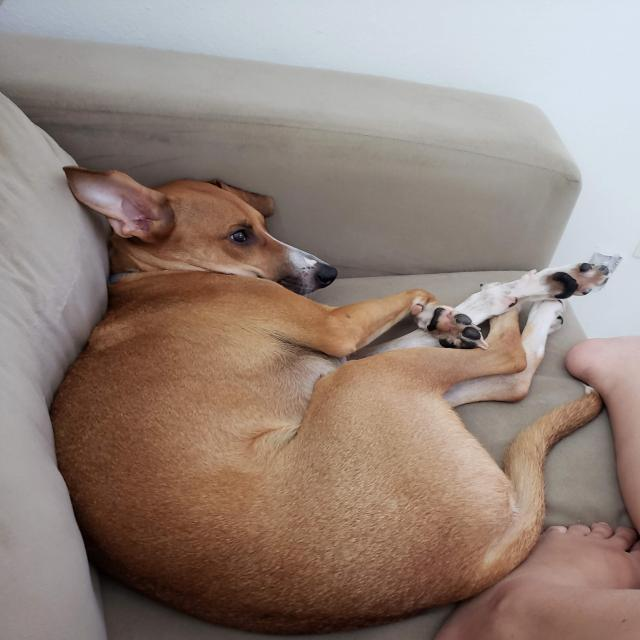laying down: (47, 162, 619, 629)
